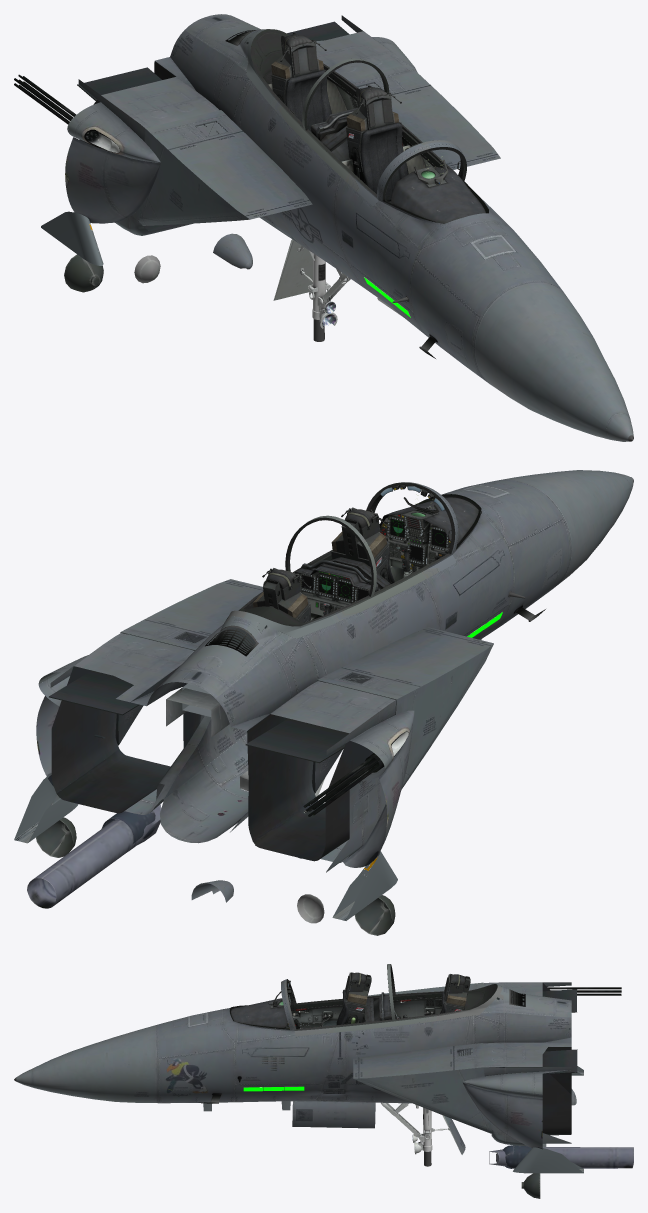
The picture shows the model from 3 angles, top to bottom: view 1: azimuth 30°, elevation 25°; view 2: azimuth 150°, elevation 25°; view 3: azimuth 270°, elevation 25°; orthographic projection. The views are drawn at different scales.
Parts seen in each view (by area): view 1: shift; view 2: shift; view 3: shift.
Part boxes in pixels (box(x1,y1,x2,y2)): shift: box(14, 14, 633, 441); shift: box(14, 470, 633, 935); shift: box(14, 964, 633, 1198).
Size of the model in its own units: 3.97 by 3.36 by 9.5.
32 materials, 29 textured.
